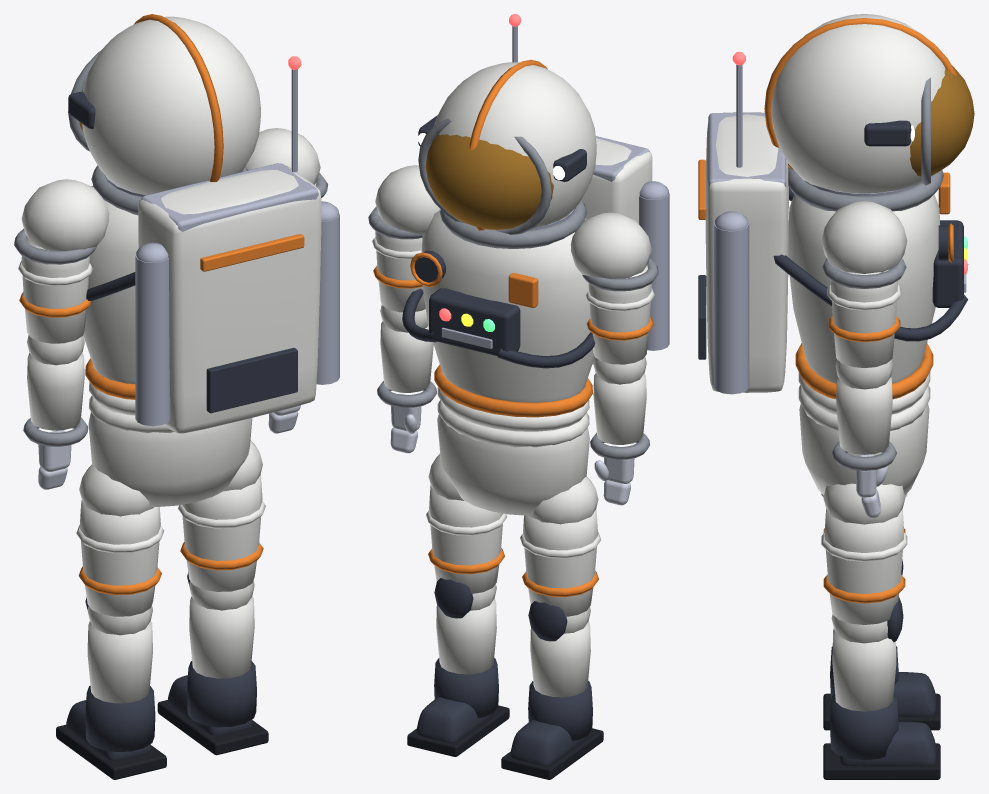
File: astronaut.glb
The picture shows the model from 3 angles, left to right: view 1: azimuth 30°, elevation 25°; view 2: azimuth 150°, elevation 25°; view 3: azimuth 270°, elevation 25°; orthographic projection. The views are drawn at different scales.
Parts seen in each view (by area): view 1: pack_shell, helmet, pack_metal, pelvis, arm_l_suit, leg_l_suit, body_suit, leg_r_suit, kn_r_suit, kn_l_suit, elb_l_suit, kn_r_dark (+19 smaller); view 2: body_suit, helmet, pelvis, visor, arm_l_suit, leg_l_suit, body_dark, leg_r_suit, kn_r_dark, kn_l_dark, arm_r_suit, head_bearing (+21 smaller); view 3: helmet, pack_shell, body_suit, arm_r_suit, leg_r_suit, pack_metal, kn_r_dark, kn_r_suit, pelvis, elb_r_suit, body_dark, visor (+15 smaller).
Part boxes in pixels (x1=…): pack_shell: x1=138, y1=165, x2=321, y2=433; helmet: x1=82, y1=16, x2=260, y2=195; pack_metal: x1=135, y1=163, x2=339, y2=426; pelvis: x1=88, y1=406, x2=252, y2=506; arm_l_suit: x1=18, y1=179, x2=109, y2=343; leg_l_suit: x1=76, y1=464, x2=164, y2=616; body_suit: x1=83, y1=185, x2=174, y2=433; leg_r_suit: x1=178, y1=440, x2=265, y2=591; kn_r_suit: x1=189, y1=581, x2=254, y2=678; kn_l_suit: x1=87, y1=605, x2=152, y2=703; elb_l_suit: x1=27, y1=335, x2=84, y2=430; kn_r_dark: x1=167, y1=572, x2=256, y2=735; body_suit: x1=421, y1=209, x2=594, y2=447; helmet: x1=434, y1=62, x2=596, y2=230; pelvis: x1=437, y1=414, x2=589, y2=515; visor: x1=425, y1=134, x2=553, y2=229; arm_l_suit: x1=570, y1=212, x2=654, y2=364; leg_l_suit: x1=520, y1=476, x2=600, y2=616; body_dark: x1=402, y1=250, x2=595, y2=368; leg_r_suit: x1=426, y1=454, x2=506, y2=593; kn_r_dark: x1=416, y1=578, x2=498, y2=742; kn_l_dark: x1=510, y1=601, x2=592, y2=765; arm_r_suit: x1=372, y1=165, x2=440, y2=312; head_bearing: x1=418, y1=118, x2=587, y2=248; helmet: x1=771, y1=14, x2=945, y2=193; pack_shell: x1=705, y1=112, x2=788, y2=392; body_suit: x1=788, y1=194, x2=940, y2=430; arm_r_suit: x1=821, y1=201, x2=907, y2=367; leg_r_suit: x1=821, y1=483, x2=907, y2=624; pack_metal: x1=708, y1=113, x2=786, y2=394; kn_r_dark: x1=830, y1=597, x2=936, y2=766; kn_r_suit: x1=831, y1=614, x2=896, y2=711; pelvis: x1=799, y1=403, x2=929, y2=495; elb_r_suit: x1=835, y1=359, x2=893, y2=454; body_dark: x1=773, y1=187, x2=968, y2=341; visor: x1=910, y1=65, x2=974, y2=176.
Bounding box in the file's own units: 0.896 × 2.05 × 0.707.
